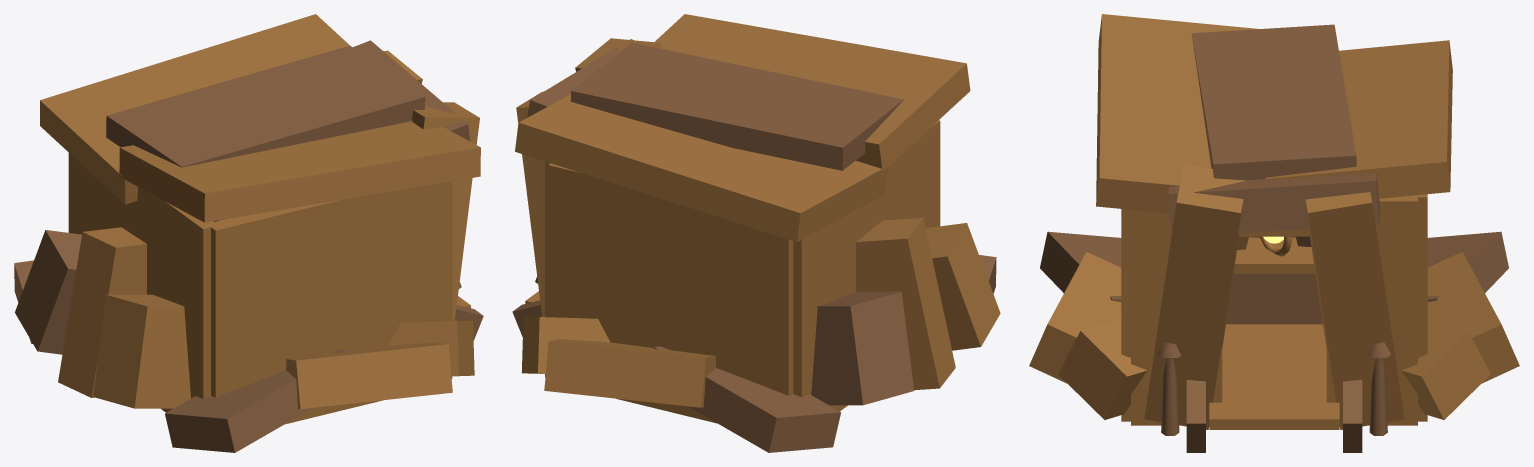
The model's file is shrine-red-cairn.glb.
3 views of the same model, side by side, from view 1: azimuth 30°, elevation 25°; view 2: azimuth 150°, elevation 25°; view 3: azimuth 270°, elevation 25° (orthographic). The views are drawn at different scales.
Parts seen in each view (by area): view 1: Mesh_ShrineChamber_WallRight, Mesh_RoofCap, Mesh_RoofSlabR, Mesh_RoofSlabL, Mesh_ShrineChamber_WallBack, Mesh_ShardB3, Mesh_ShardR1, Mesh_ShardB1, Mesh_ShardR2, Mesh_ShardB2, Mesh_GatePillarR, Mesh_ShardR3 (+3 smaller); view 2: Mesh_ShrineChamber_WallLeft, Mesh_RoofSlabL, Mesh_RoofCap, Mesh_RoofSlabR, Mesh_ShrineChamber_WallBack, Mesh_ShardB2, Mesh_ShardB1, Mesh_ShardL1, Mesh_ShardL2, Mesh_ShardB3, Mesh_ShardL3, Mesh_GatePillarL (+4 smaller); view 3: Mesh_RoofCap, Mesh_RoofSlabR, Mesh_RoofSlabL, Mesh_GatePillarR, Mesh_GatePillarL, Mesh_ShrineChamber_Floor, Mesh_ShrineChamber_WallFront_L, Mesh_ShrineChamber_WallFront_R, Mesh_GateLintel, Mesh_ShardL1, Mesh_ShardR1, Mesh_ShardL3 (+13 smaller).
Part boxes in pixels (x1,y1,x2,y2): Mesh_ShrineChamber_WallRight: (207, 182, 448, 424); Mesh_RoofCap: (106, 45, 425, 167); Mesh_RoofSlabR: (119, 122, 480, 222); Mesh_RoofSlabL: (40, 14, 349, 204); Mesh_ShrineChamber_WallBack: (68, 153, 218, 412); Mesh_ShardB3: (93, 294, 190, 408); Mesh_ShardR1: (286, 342, 452, 408); Mesh_ShardB1: (58, 227, 146, 397); Mesh_ShardR2: (165, 349, 346, 452); Mesh_ShardB2: (15, 230, 81, 354); Mesh_GatePillarR: (411, 102, 479, 321); Mesh_ShardR3: (389, 320, 474, 376); Mesh_ShrineChamber_WallLeft: (548, 163, 793, 423); Mesh_RoofSlabL: (515, 94, 888, 242); Mesh_RoofCap: (570, 43, 903, 170); Mesh_RoofSlabR: (654, 14, 970, 171); Mesh_ShrineChamber_WallBack: (793, 120, 940, 411); Mesh_ShardB2: (811, 291, 914, 405); Mesh_ShardB1: (856, 218, 955, 390); Mesh_ShardL1: (544, 339, 716, 407); Mesh_ShardL2: (653, 346, 840, 452); Mesh_ShardB3: (925, 223, 1000, 350); Mesh_ShardL3: (521, 316, 609, 373); Mesh_GatePillarL: (516, 91, 544, 316); Mesh_RoofCap: (1191, 24, 1356, 180); Mesh_RoofSlabR: (1096, 14, 1258, 213); Mesh_RoofSlabL: (1265, 40, 1452, 198); Mesh_GatePillarR: (1144, 164, 1245, 429); Mesh_GatePillarL: (1305, 192, 1404, 429); Mesh_ShrineChamber_Floor: (1222, 324, 1326, 402); Mesh_ShrineChamber_WallFront_L: (1326, 195, 1417, 425); Mesh_ShrineChamber_WallFront_R: (1131, 210, 1222, 425); Mesh_GateLintel: (1168, 173, 1380, 234); Mesh_ShardL1: (1427, 251, 1519, 383); Mesh_ShardR1: (1029, 251, 1121, 383); Mesh_ShardL3: (1401, 318, 1490, 419).
Size of the model in its own units: 3.6 by 2.38 by 3.77.
